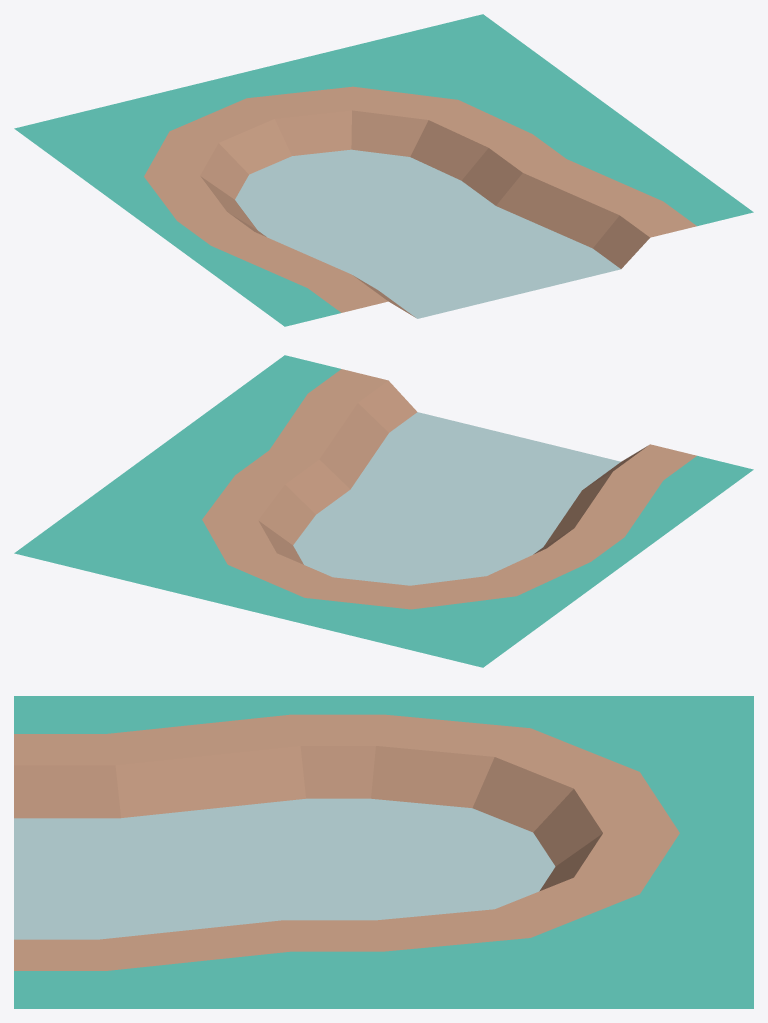
File: ground_riverEndClosed.glb
The picture shows the model from 3 angles, top to bottom: view 1: azimuth 30°, elevation 25°; view 2: azimuth 150°, elevation 25°; view 3: azimuth 270°, elevation 25°; orthographic projection. The views are drawn at different scales.
Visible parts, largest first — view 1: ground_riverEndClosed; view 2: ground_riverEndClosed; view 3: ground_riverEndClosed.
Part boxes in pixels (x1=…): ground_riverEndClosed: x1=14, y1=14, x2=753, y2=326; ground_riverEndClosed: x1=14, y1=355, x2=753, y2=667; ground_riverEndClosed: x1=14, y1=696, x2=753, y2=1008.
Size of the model in its own units: 1 by 0.05 by 1.
